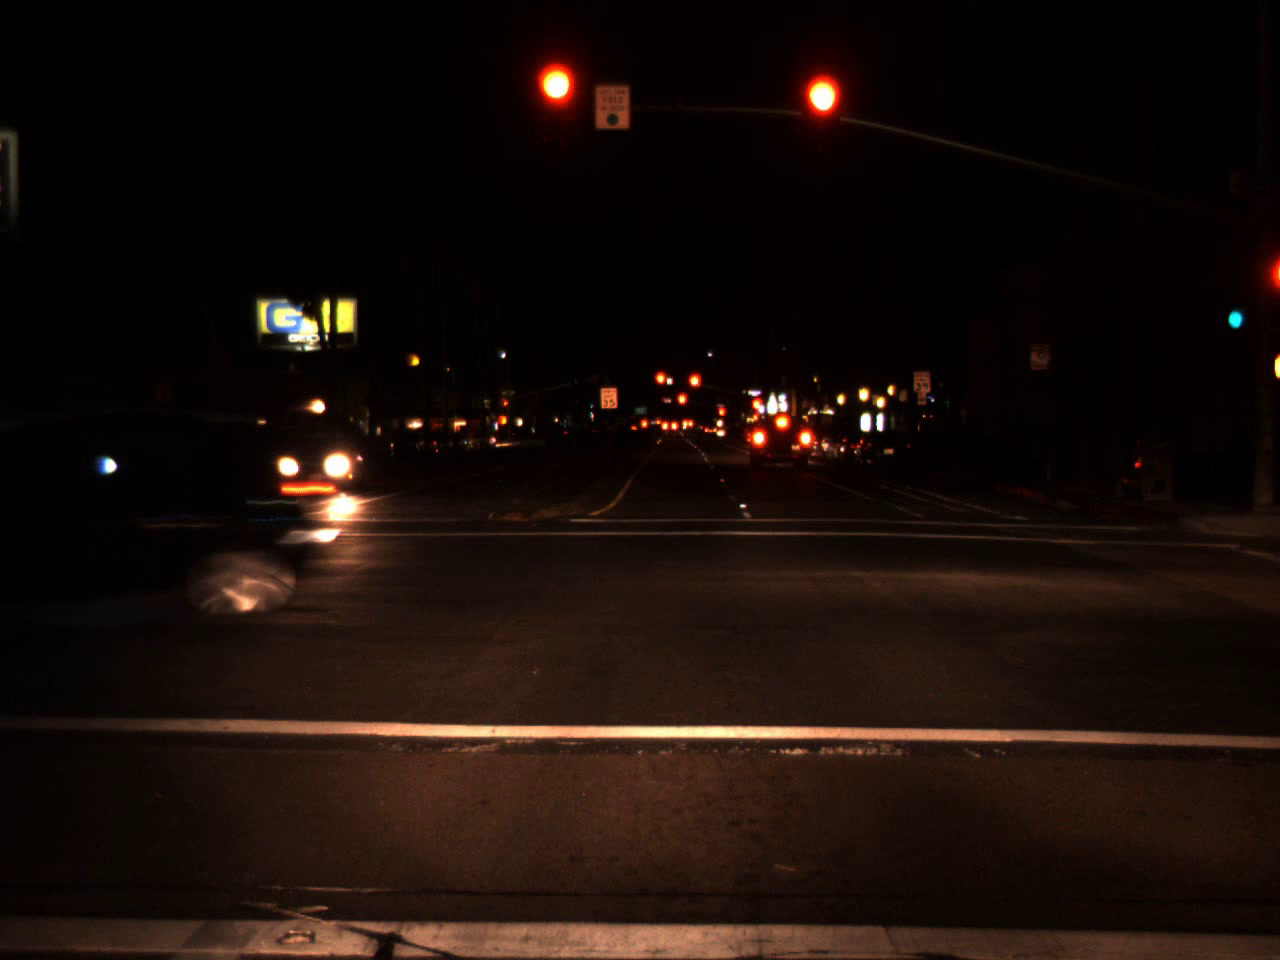stop: (537, 65, 577, 143), (801, 75, 840, 153), (686, 372, 702, 401), (653, 370, 666, 399), (676, 392, 688, 416), (750, 396, 763, 414), (717, 406, 727, 427), (502, 400, 508, 410)
